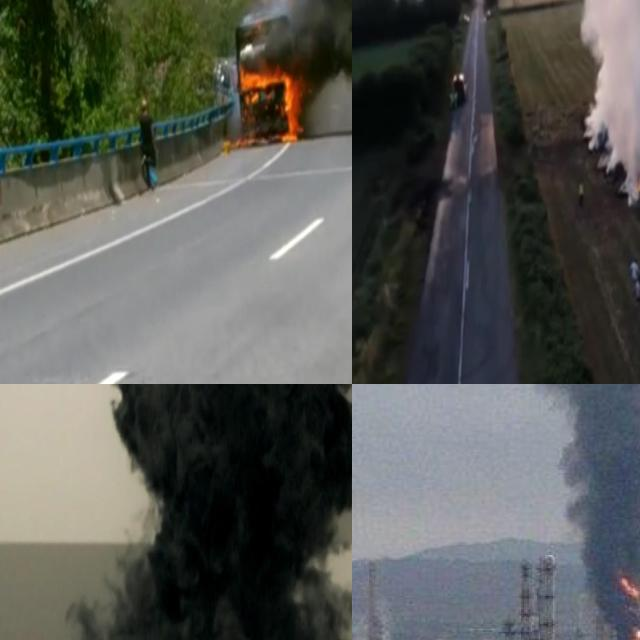fire: (228, 62, 301, 149), (618, 573, 640, 596), (635, 173, 640, 198)
smoke: (68, 384, 352, 640), (491, 384, 640, 640)
